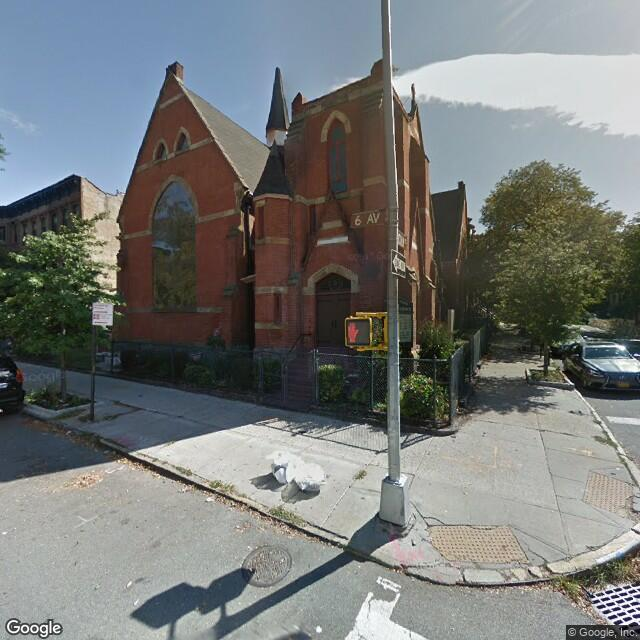litter: (178, 483, 190, 494), (452, 408, 465, 417), (204, 497, 217, 504), (614, 463, 622, 471), (65, 426, 71, 435)
